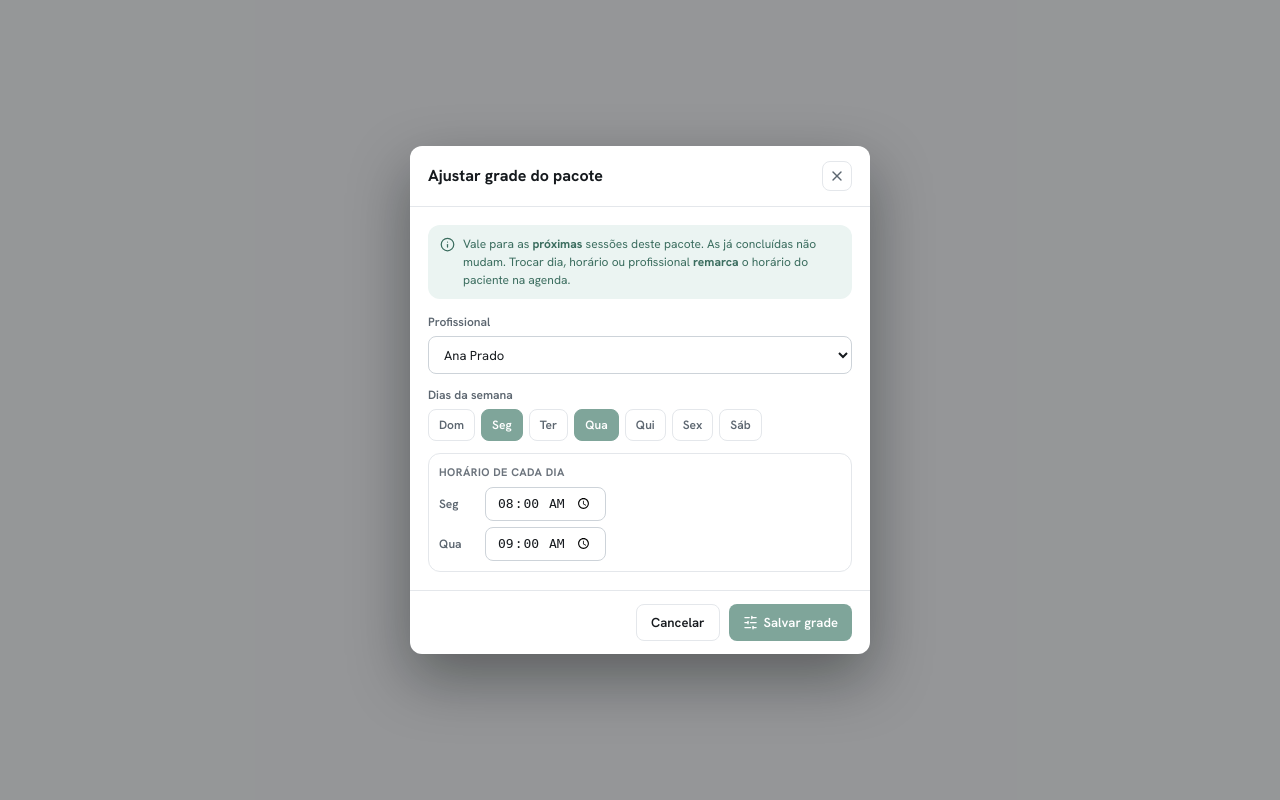
it: PackageGradeModal › sem nenhum dia marcado não dá para salvar
Click the button "Seg": (502, 425) [481,409,523,441]
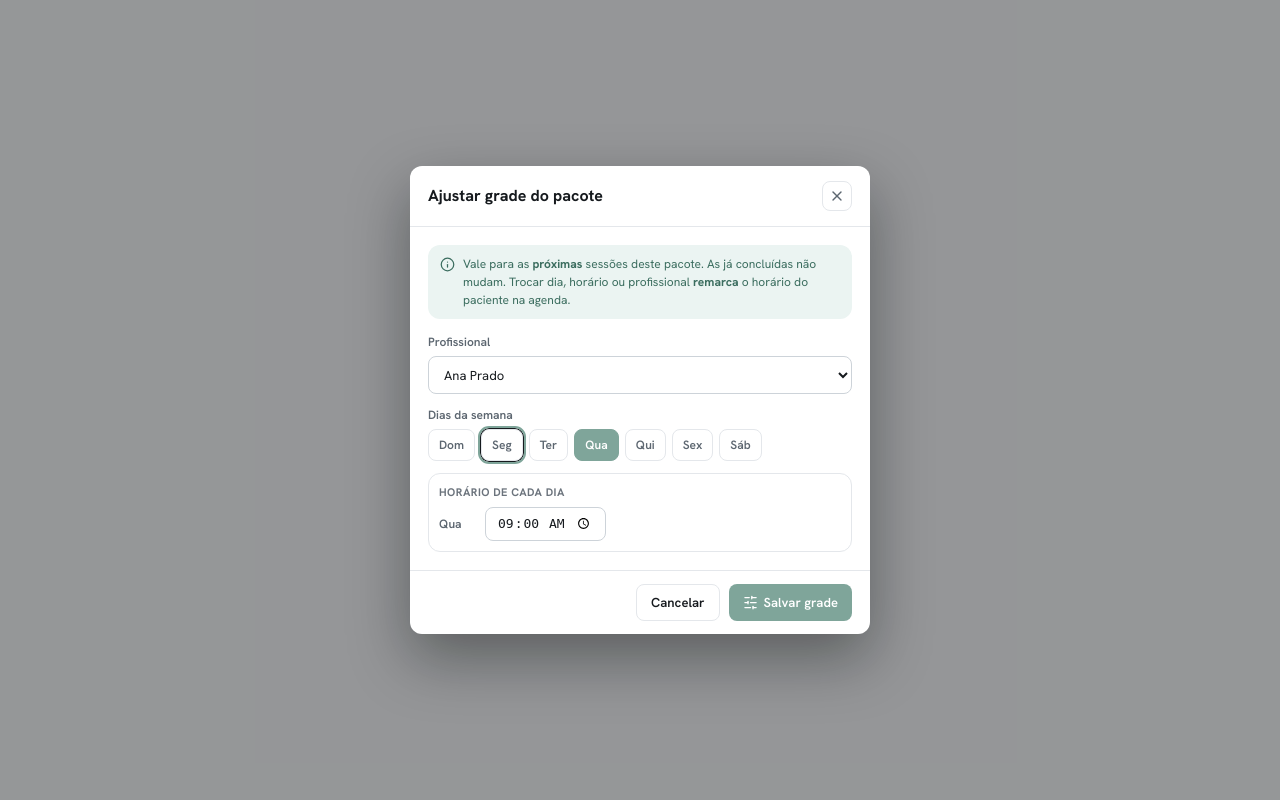
Click the button "Qua": (596, 445) [574,429,619,461]
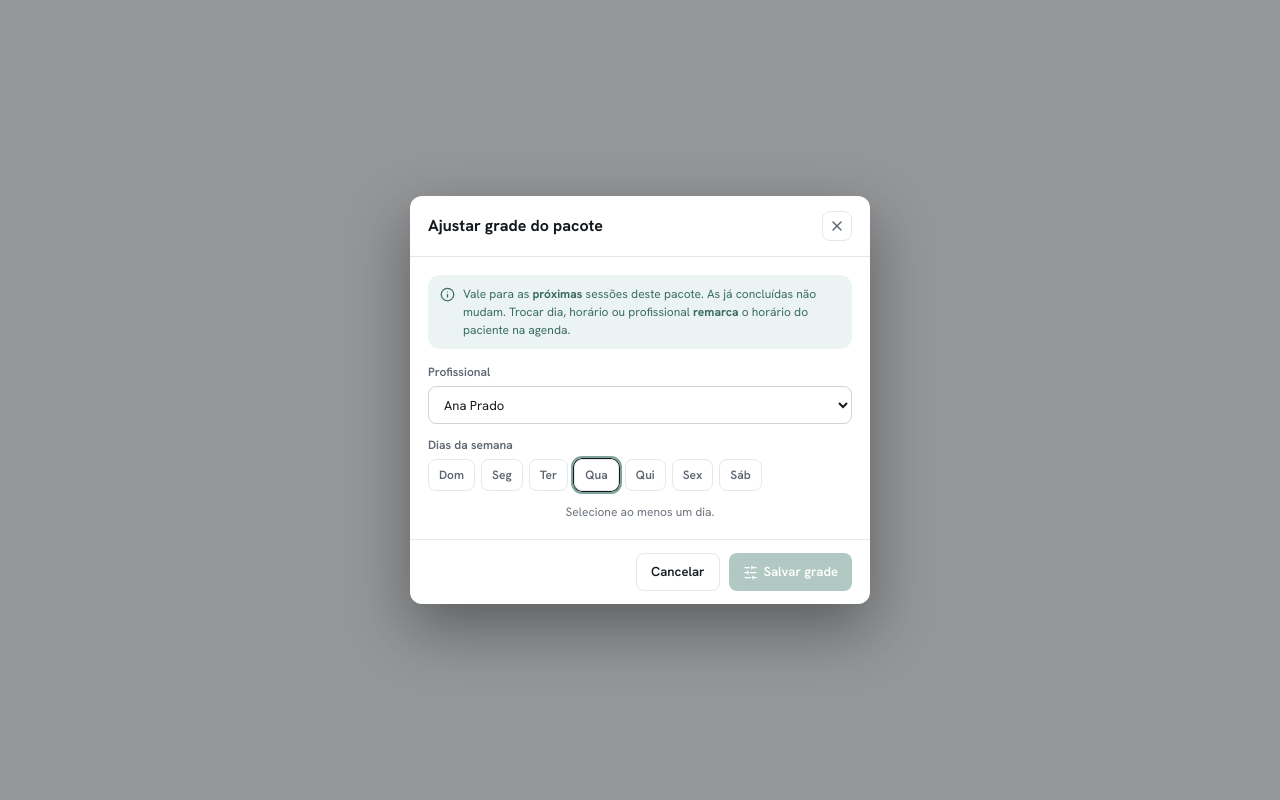
Expected: the text "Selecione ao menos um dia." is shown, [566,504,714,520]
Expected: the button "Salvar grade" is disabled, [728,553,852,591]
